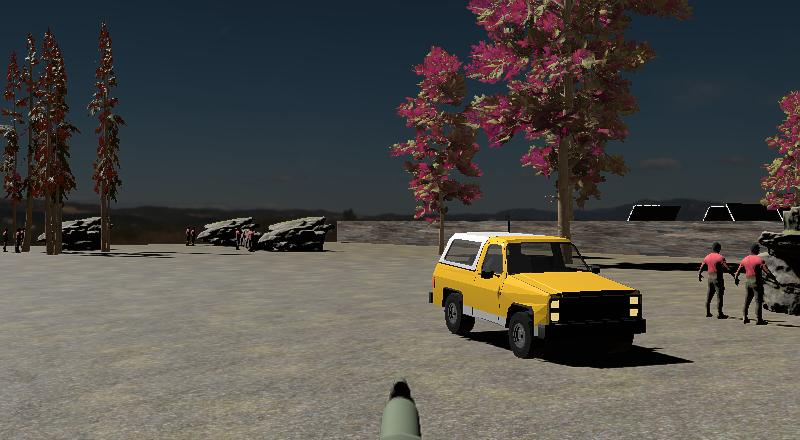Human: (735, 242, 778, 325), (697, 242, 736, 319)
car: (427, 231, 648, 359)
